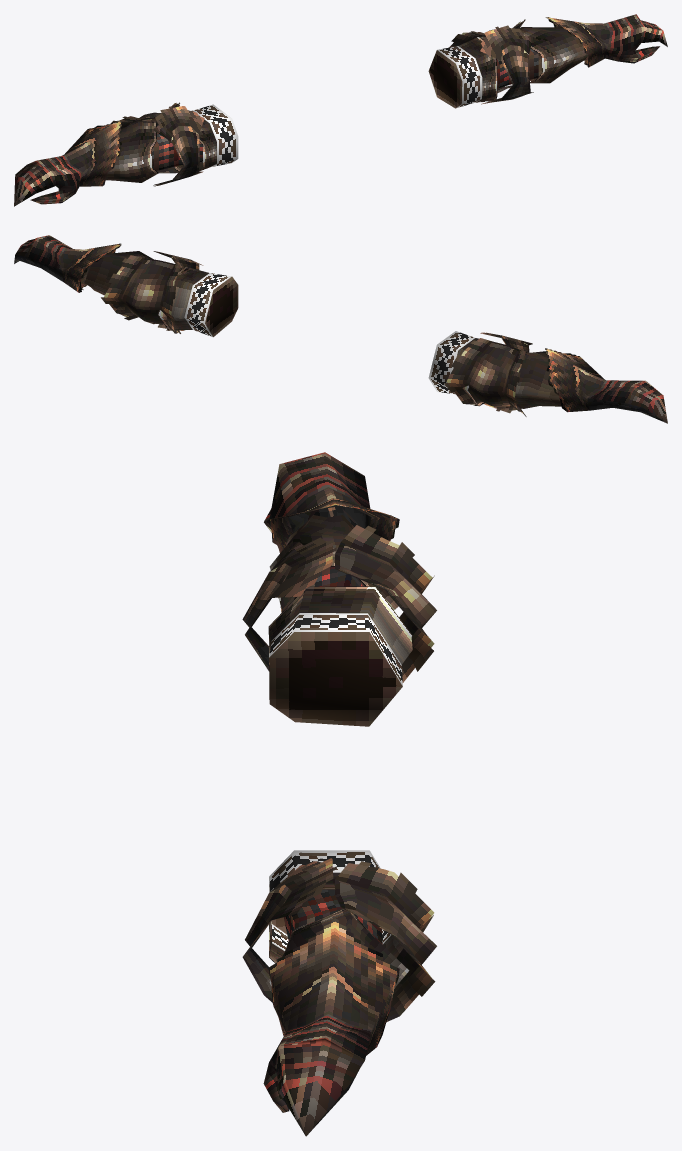
Rendered from f_gauntlet125.obj.
3 views of the same model, one above another, from view 1: azimuth 30°, elevation 25°; view 2: azimuth 150°, elevation 25°; view 3: azimuth 270°, elevation 25° (orthographic). The views are drawn at different scales.
Visible parts, largest first — view 1: mesh00, mesh01; view 2: mesh00, mesh01; view 3: mesh00, mesh01.
Part boxes in pixels (box(x1,y1,x2,y2)): mesh00: box(14, 14, 667, 206); mesh01: box(193, 46, 482, 167); mesh00: box(14, 235, 667, 423); mesh01: box(184, 273, 474, 394); mesh00: box(242, 452, 436, 1136); mesh01: box(269, 613, 402, 950).
Size of the model in its own units: 174 by 19.63 by 22.67.
Materials: 2 (2 with a texture image).
